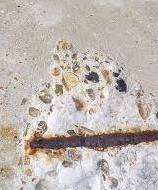Exposed reinforcement: (29, 130, 158, 150)
Spalling: (21, 38, 158, 190)
